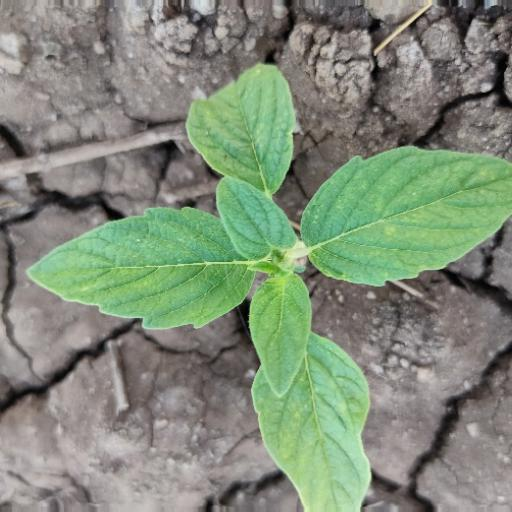crop: (23, 62, 512, 511)
